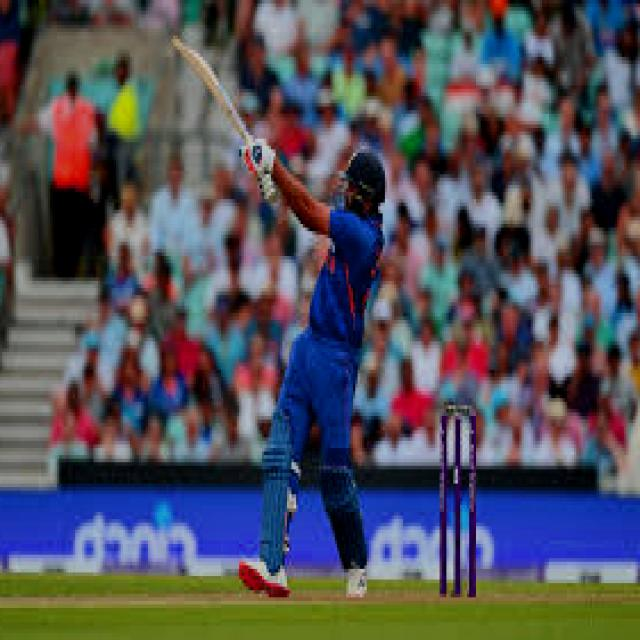toe: (162, 33, 191, 58)
